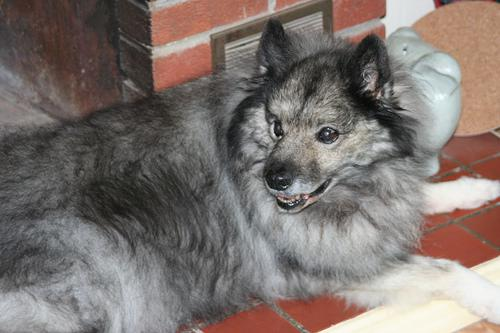dog-keeshond: (253, 15, 390, 212)
